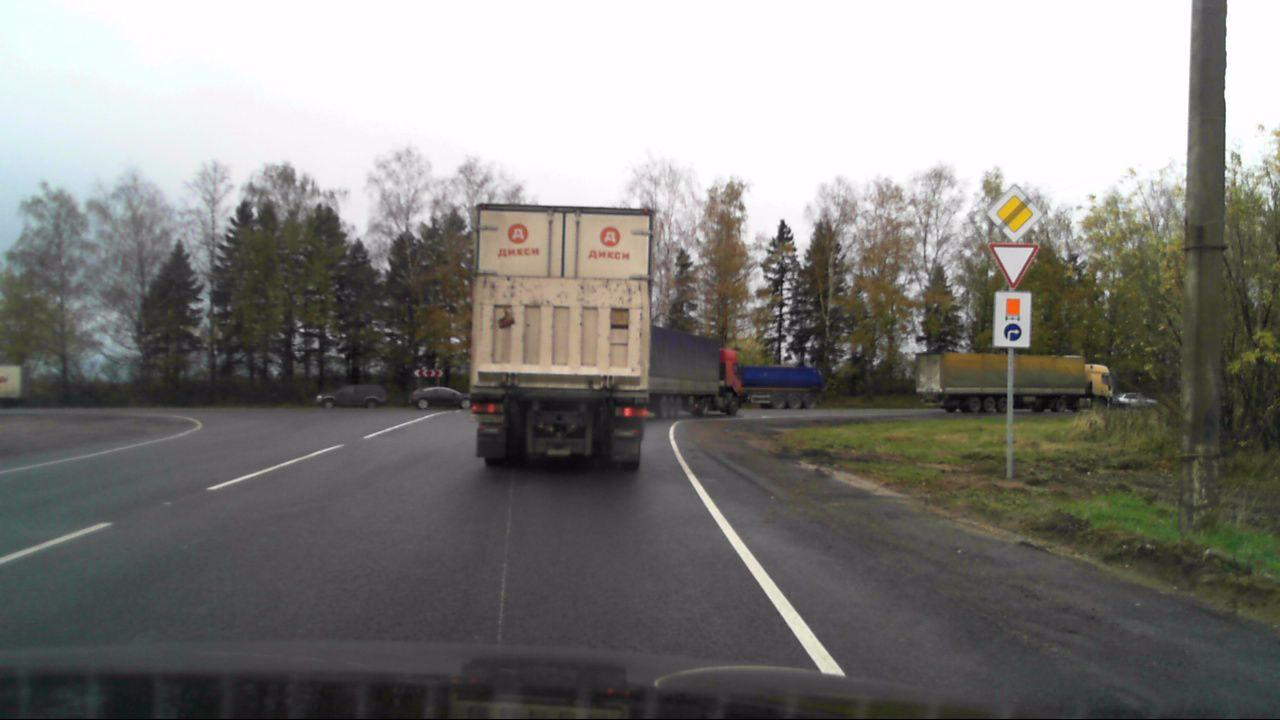2_2: (985, 184, 1042, 239)
2_4: (984, 243, 1044, 290)
4_8_2: (993, 293, 1030, 348)
